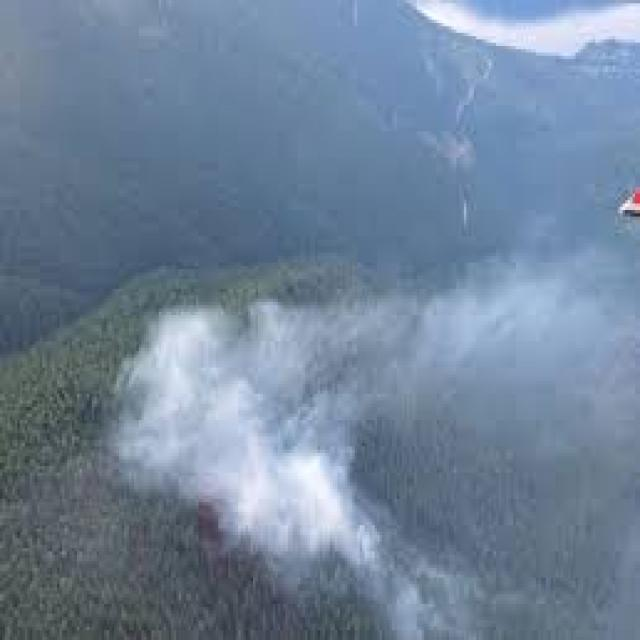Smoke: (108, 296, 391, 576)
